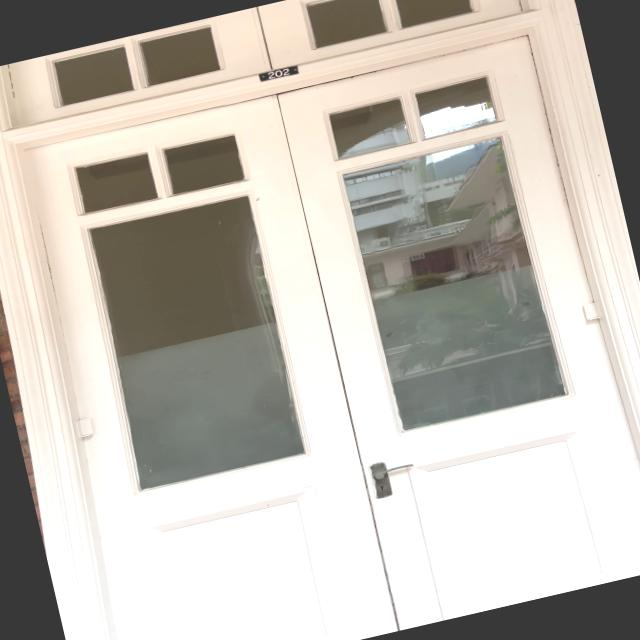room202: (256, 58, 303, 84)
